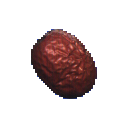gd: (17, 16, 114, 115)
